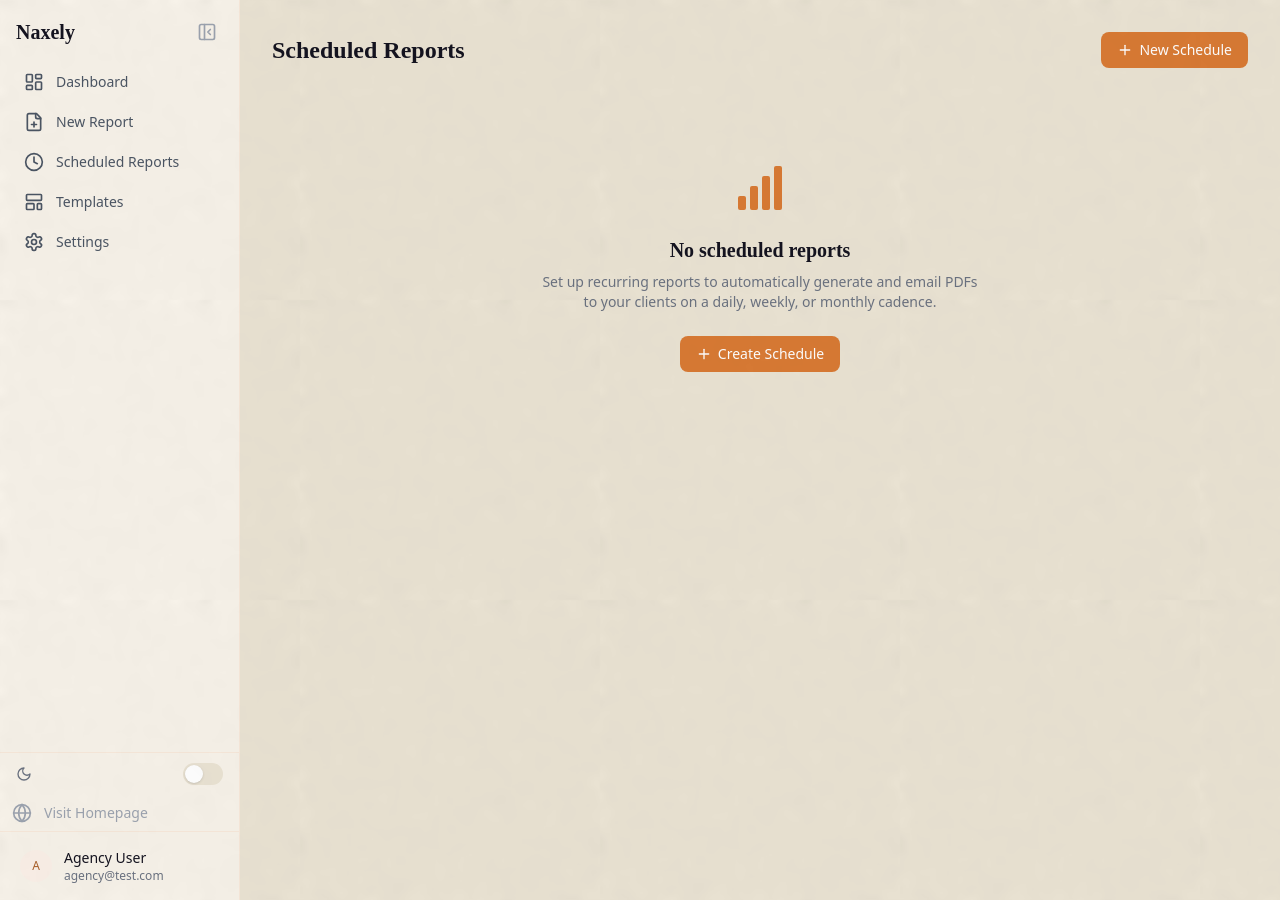
Test: ScheduledReports › validates empty recipients in create form
The image size is (1280, 900).
Click the button "Create Schedule": (760, 354) [680,336,840,372]
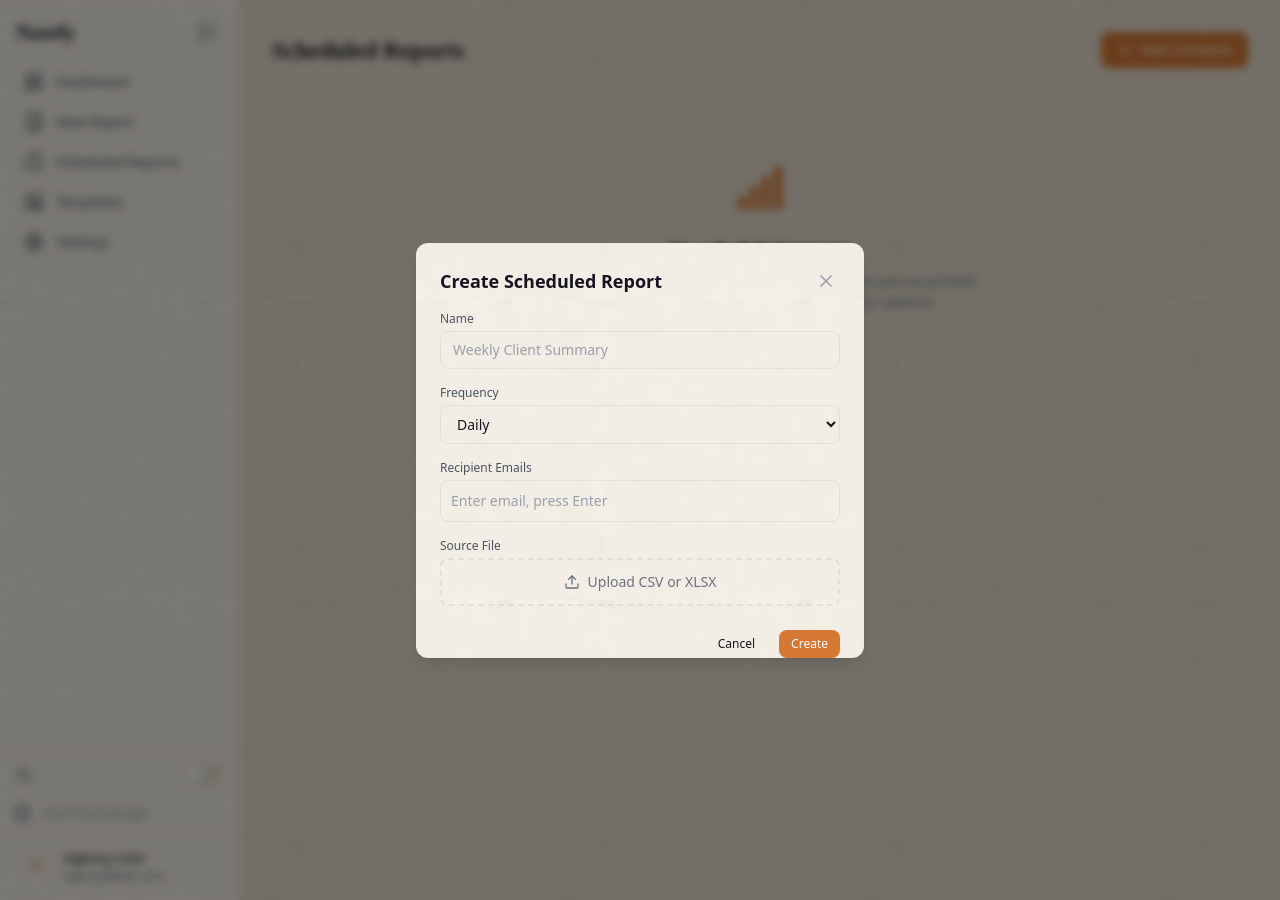
Result: the heading "Create Scheduled Report" is shown at [440,266,662,294]
In the field with placeholder "Weekly Client Summary": (640, 350) [440,330,840,368], type "Test Report"
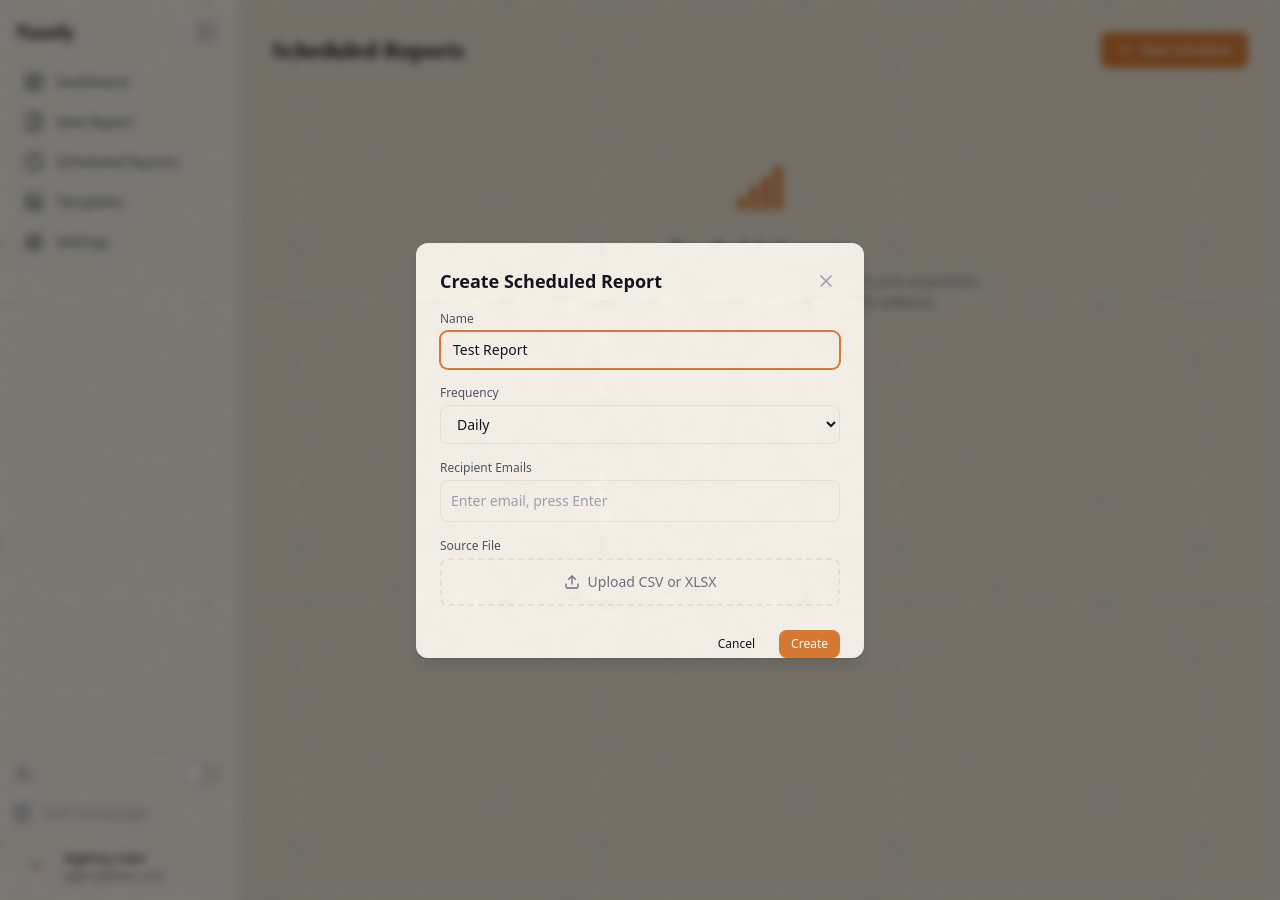
Click the button "Create": (810, 644) [779,630,840,658]
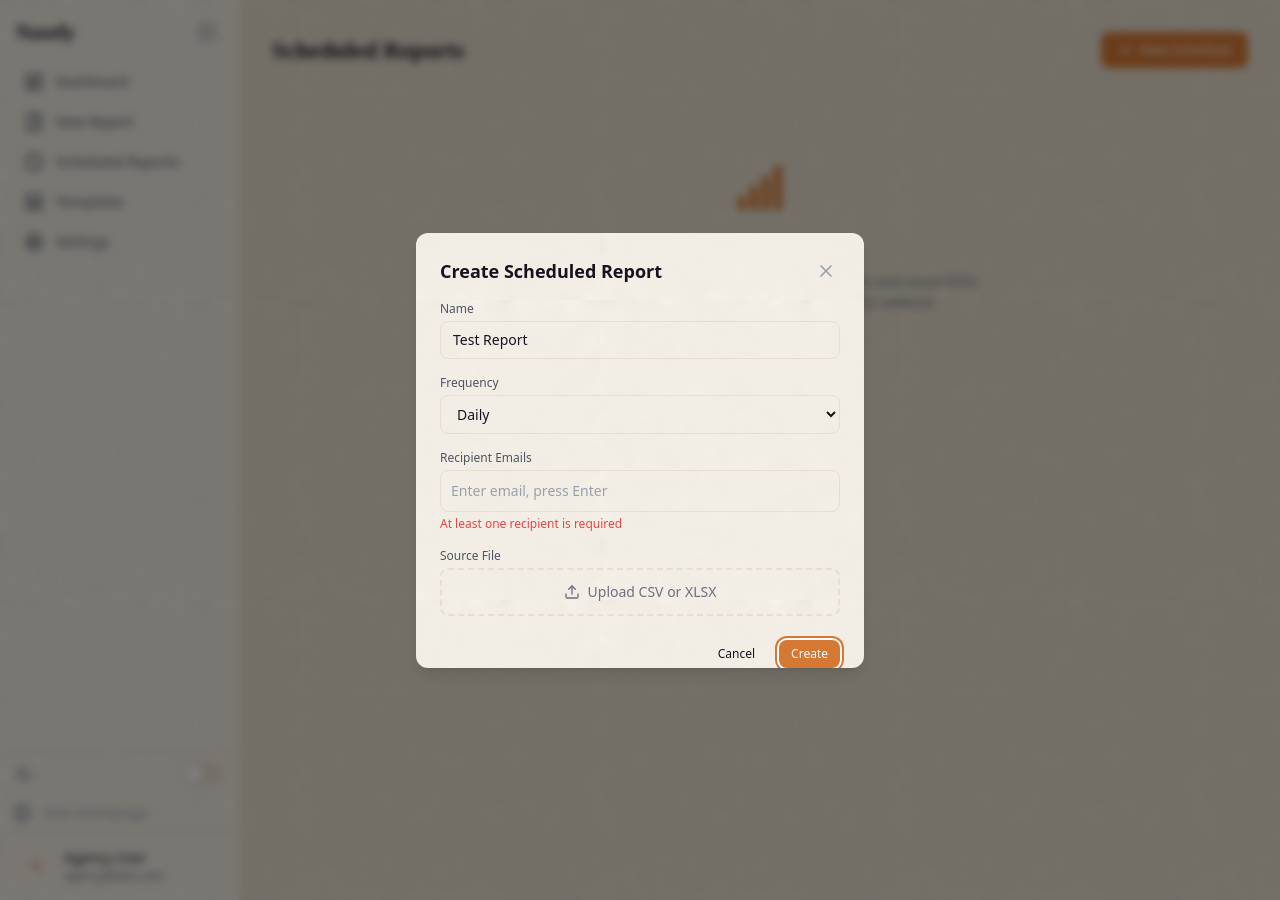
Result: the text "At least one recipient is required" is shown at [440,514,622,532]
